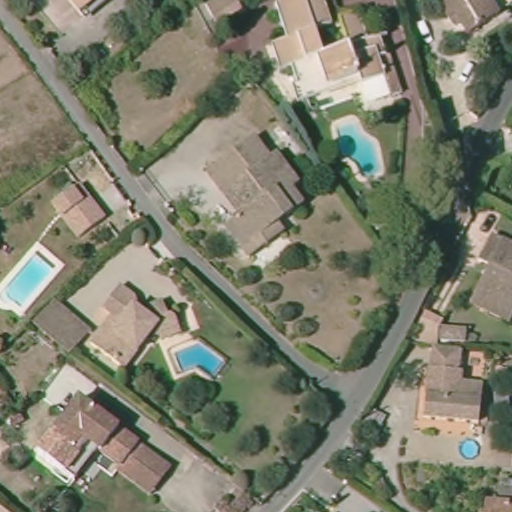pool: (328, 110, 388, 186), (1, 247, 61, 314), (166, 337, 231, 382), (458, 436, 481, 461)
